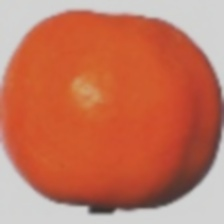tangerine: (41, 46, 197, 217)
